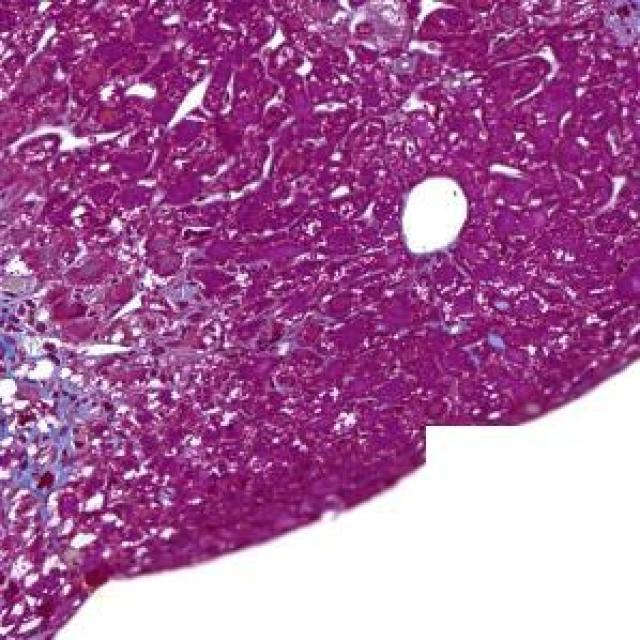fibrosis: (0, 280, 101, 512)
